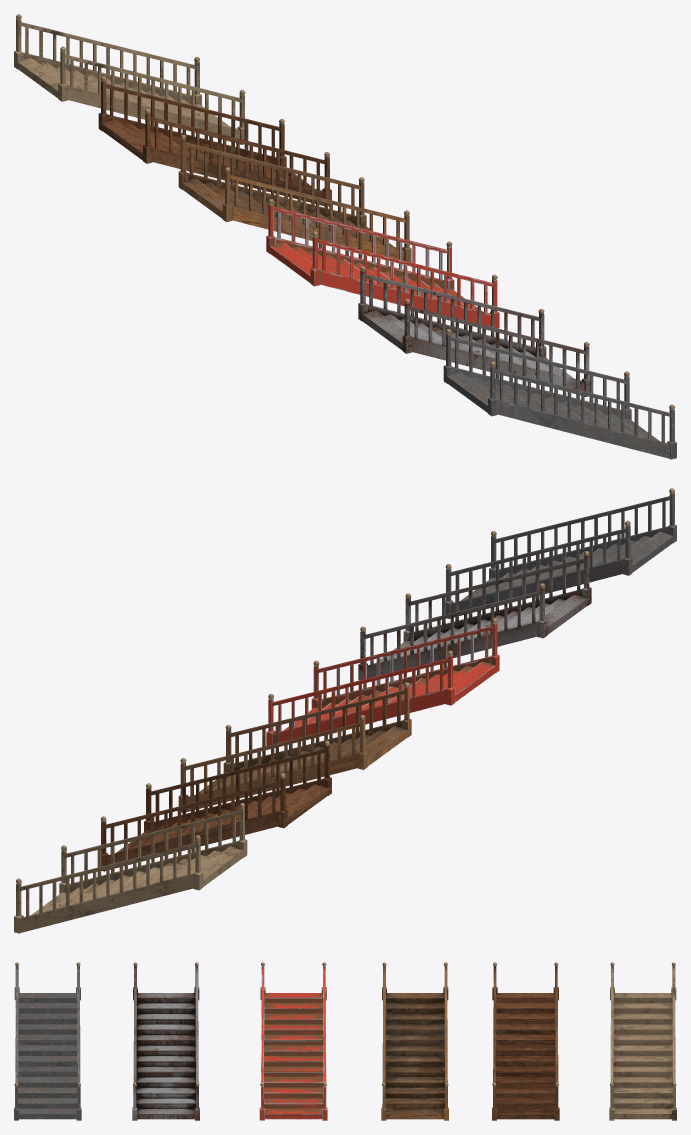
File: wooden_stairs_iron_stairs__metal_stairs.glb
3 views of the same model, one above another, from view 1: azimuth 30°, elevation 25°; view 2: azimuth 150°, elevation 25°; view 3: azimuth 270°, elevation 25° (orthographic). The views are drawn at different scales.
Visible parts, largest first — view 1: Line001.007_8, Line001.013_16, Line001.016_20, Line001.010_12, Line001.001_0, Line001.004_4; view 2: Line001.001_0, Line001.010_12, Line001.013_16, Line001.007_8, Line001.004_4, Line001.016_20; view 3: Line001.001_0, Line001.007_8, Line001.010_12, Line001.013_16, Line001.016_20, Line001.004_4.
Part boxes in pixels (x1,y1,x2,y2): Line001.007_8: (443,333,676,459); Line001.013_16: (266,203,499,328); Line001.016_20: (178,139,411,262); Line001.010_12: (358,271,589,396); Line001.001_0: (14,19,244,144); Line001.004_4: (98,81,331,206); Line001.001_0: (14,807,247,933); Line001.010_12: (358,556,591,680); Line001.013_16: (266,623,499,745); Line001.007_8: (445,493,676,618); Line001.004_4: (101,745,331,871); Line001.016_20: (178,687,411,812); Line001.001_0: (609,966,676,1120); Line001.007_8: (14,966,81,1120); Line001.010_12: (132,966,199,1120); Line001.013_16: (259,966,327,1120); Line001.016_20: (381,966,448,1120); Line001.004_4: (492,966,559,1120).
Size of the model in its own units: 0.3323 by 0.2392 by 1.49.
Materials: 12 (12 with a texture image).
